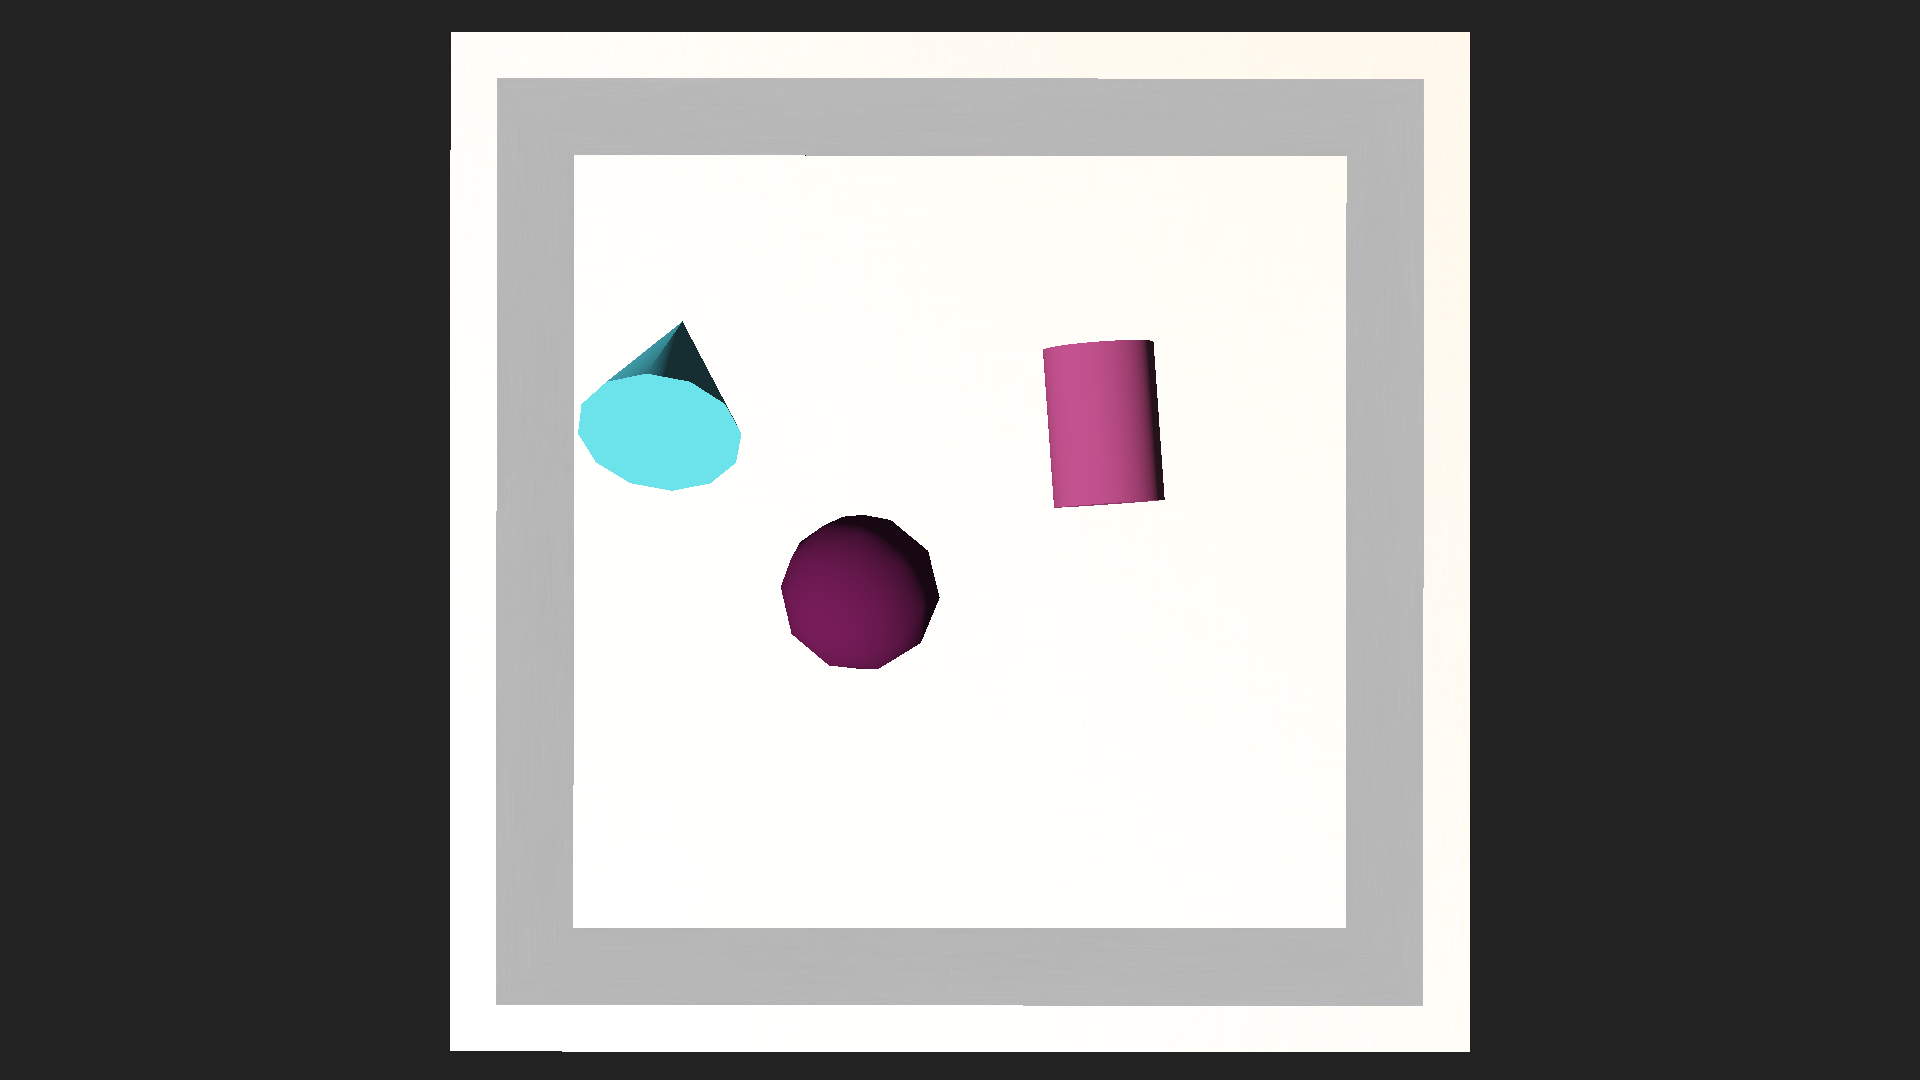cone: (1040, 336, 1168, 508)
cylinder: (570, 252, 762, 488)
sphere: (779, 512, 939, 671)
